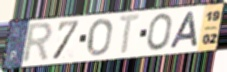7: (53, 19, 81, 62)
A: (168, 10, 200, 50)
O: (86, 17, 113, 58), (146, 12, 173, 52)
R: (20, 21, 55, 65)
T: (117, 13, 144, 57)
